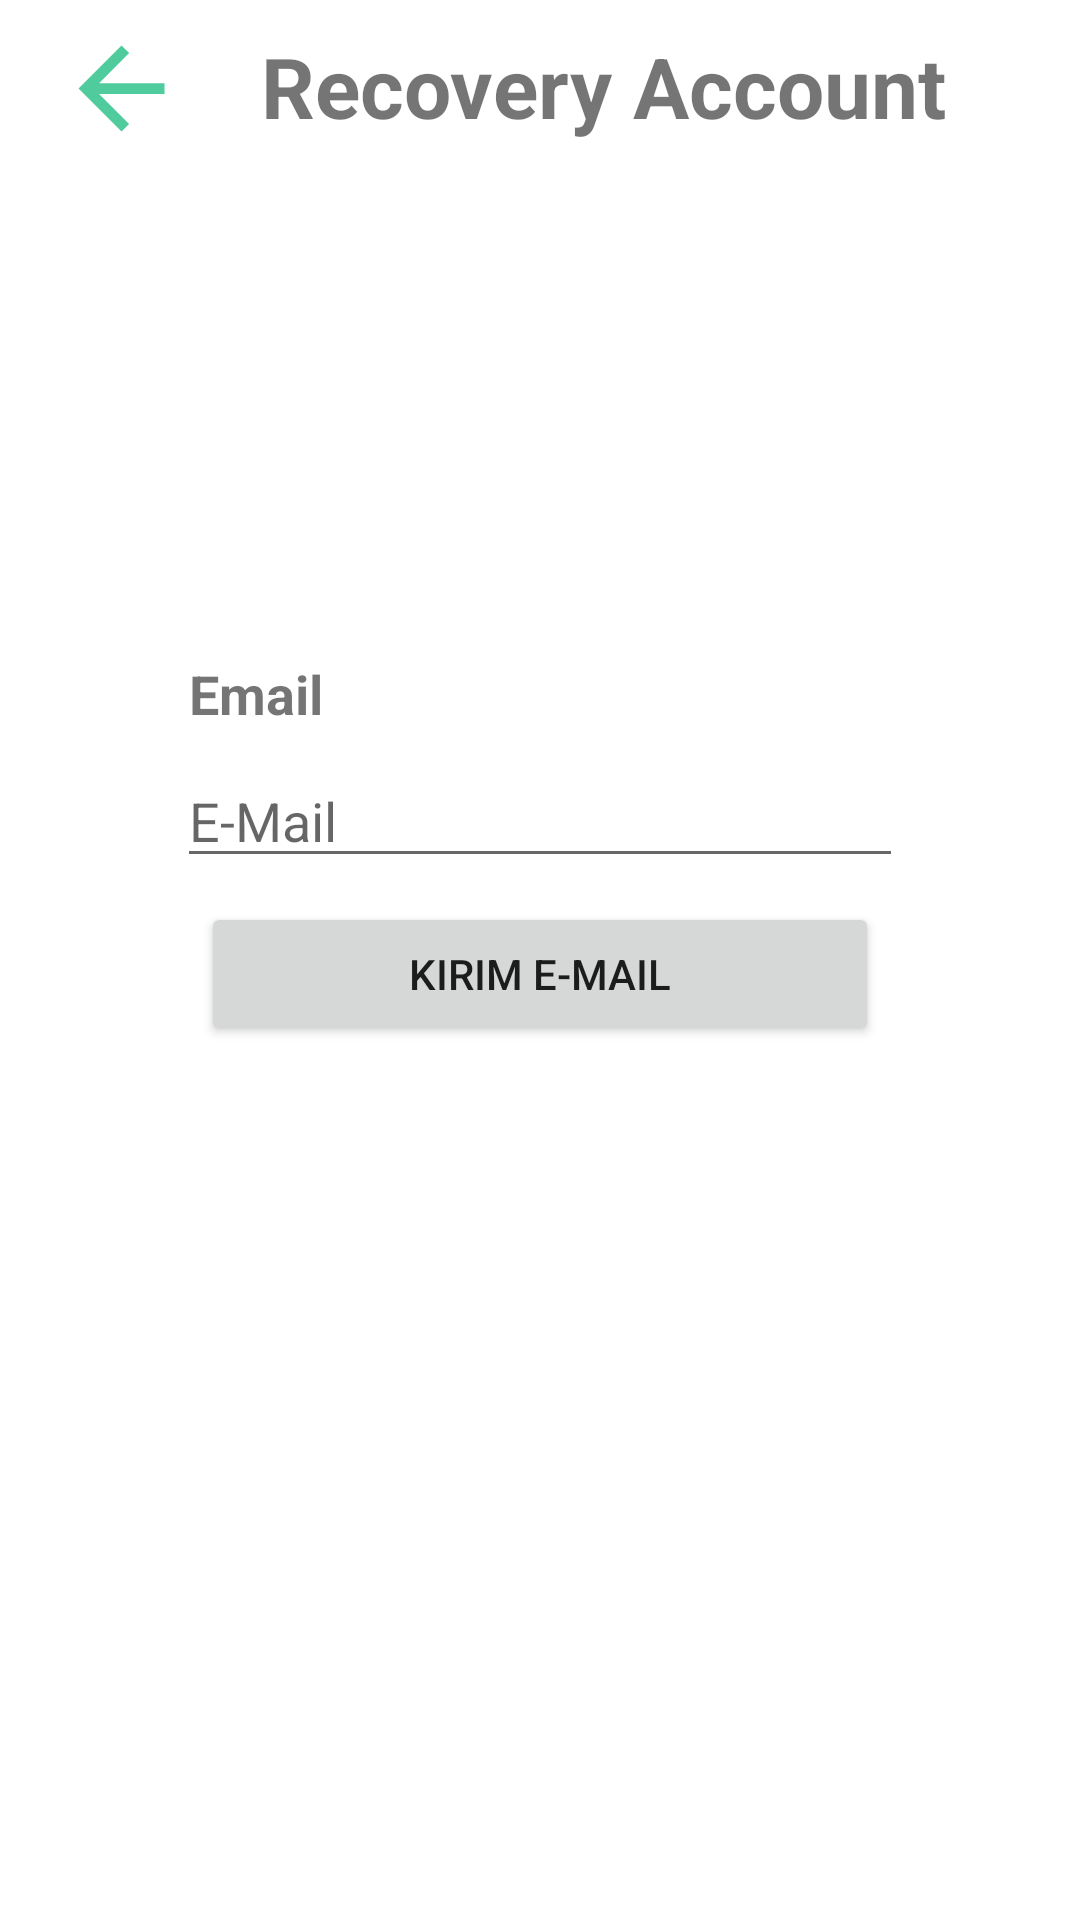

Icons on this 1080px×1920px Android screen, each with the point to tap as [x,y]:
back: [121,88]
